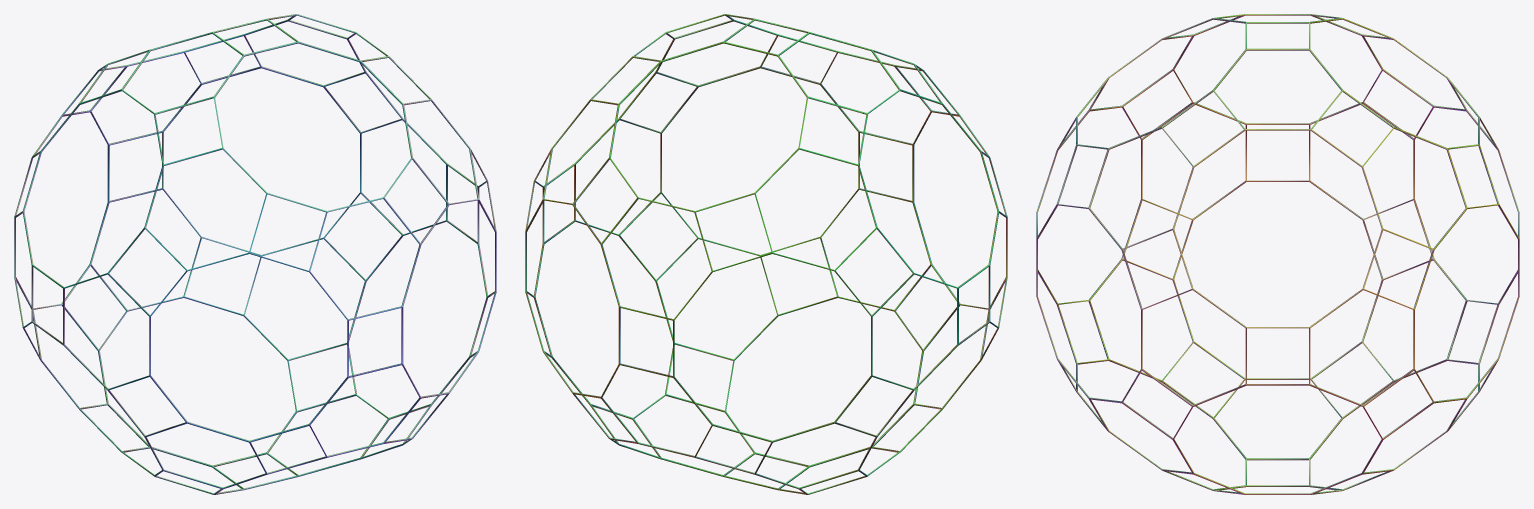
File: zeometry-wireframes-wire-truncated-icosidodecahedron_v2.glb
3 renders of one model, left to right at view 1: azimuth 30°, elevation 25°; view 2: azimuth 150°, elevation 25°; view 3: azimuth 270°, elevation 25°, orthographic.
Parts seen in each view (by area): view 1: Wire Truncated Icosidodecahedron_v2; view 2: Wire Truncated Icosidodecahedron_v2; view 3: Wire Truncated Icosidodecahedron_v2.
Boxes of the visible parts, bbox=[...] form: Wire Truncated Icosidodecahedron_v2: bbox=[14, 14, 496, 494]; Wire Truncated Icosidodecahedron_v2: bbox=[525, 14, 1007, 494]; Wire Truncated Icosidodecahedron_v2: bbox=[1036, 14, 1519, 494].
Size of the model in its own units: 0.5 by 0.5 by 0.5.
